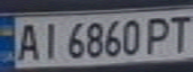0: (121, 16, 145, 56)
6: (63, 18, 87, 60), (103, 17, 127, 57)
8: (84, 18, 106, 60)
A: (12, 19, 42, 62)
I: (36, 19, 63, 61)
P: (142, 13, 175, 55)
T: (163, 12, 193, 53)
